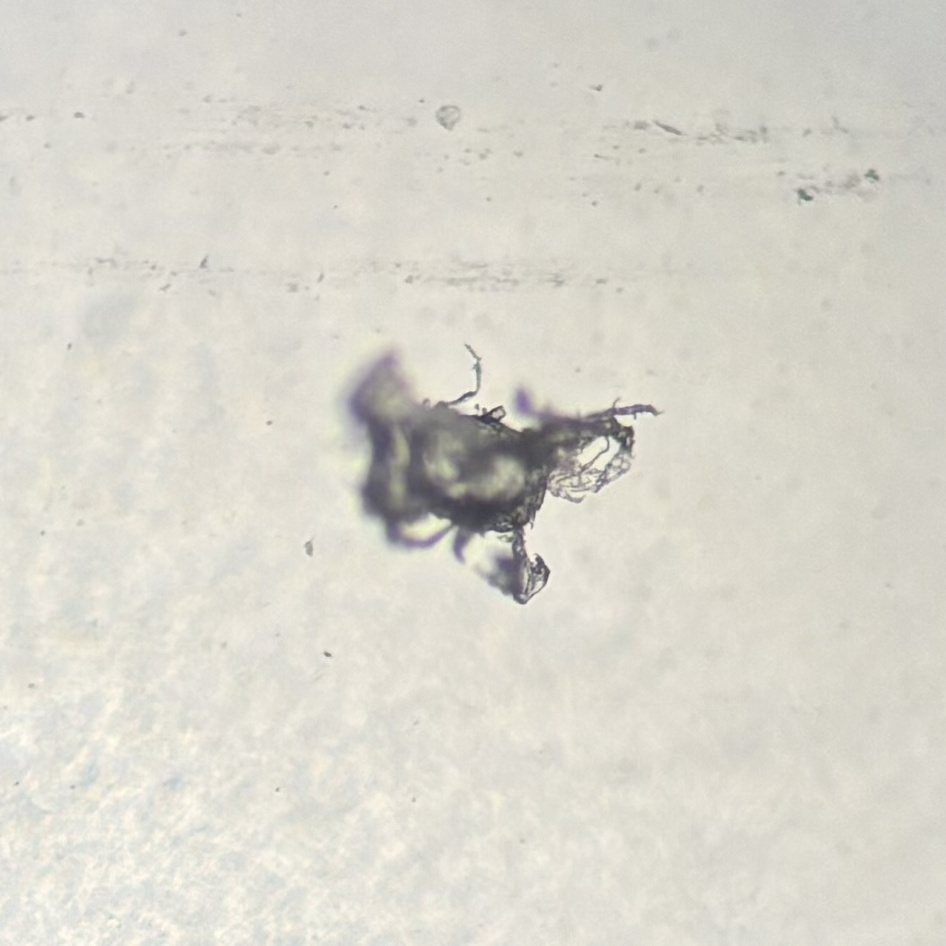microplastic: (337, 344, 662, 606)
